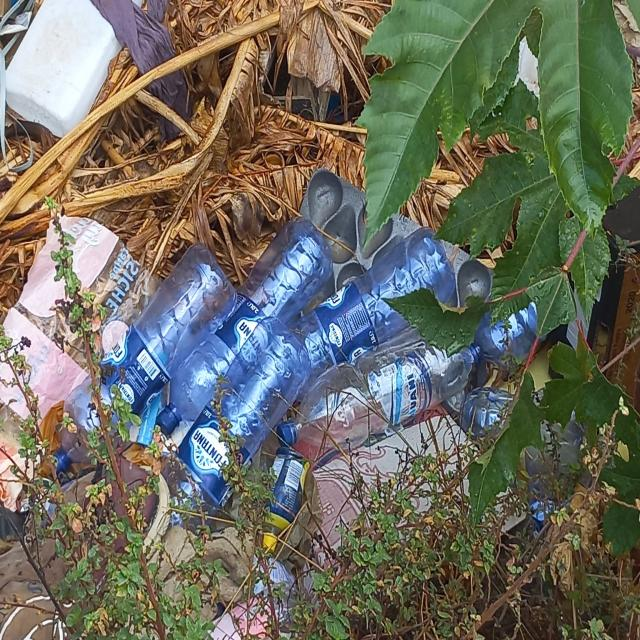Bottle: (49, 244, 239, 475), (157, 221, 332, 435), (165, 312, 311, 534), (288, 225, 455, 390), (277, 325, 473, 450), (471, 302, 552, 367), (462, 390, 516, 445)
Carton: (553, 189, 640, 418)
Other litter: (0, 461, 312, 640), (296, 166, 496, 310), (91, 0, 198, 139), (268, 70, 352, 121), (445, 388, 473, 411)
Other plastic: (6, 0, 123, 137), (0, 0, 41, 180), (522, 421, 586, 534), (502, 35, 542, 102)
Plastic bag - wrapper: (0, 217, 163, 513), (311, 403, 526, 578)
